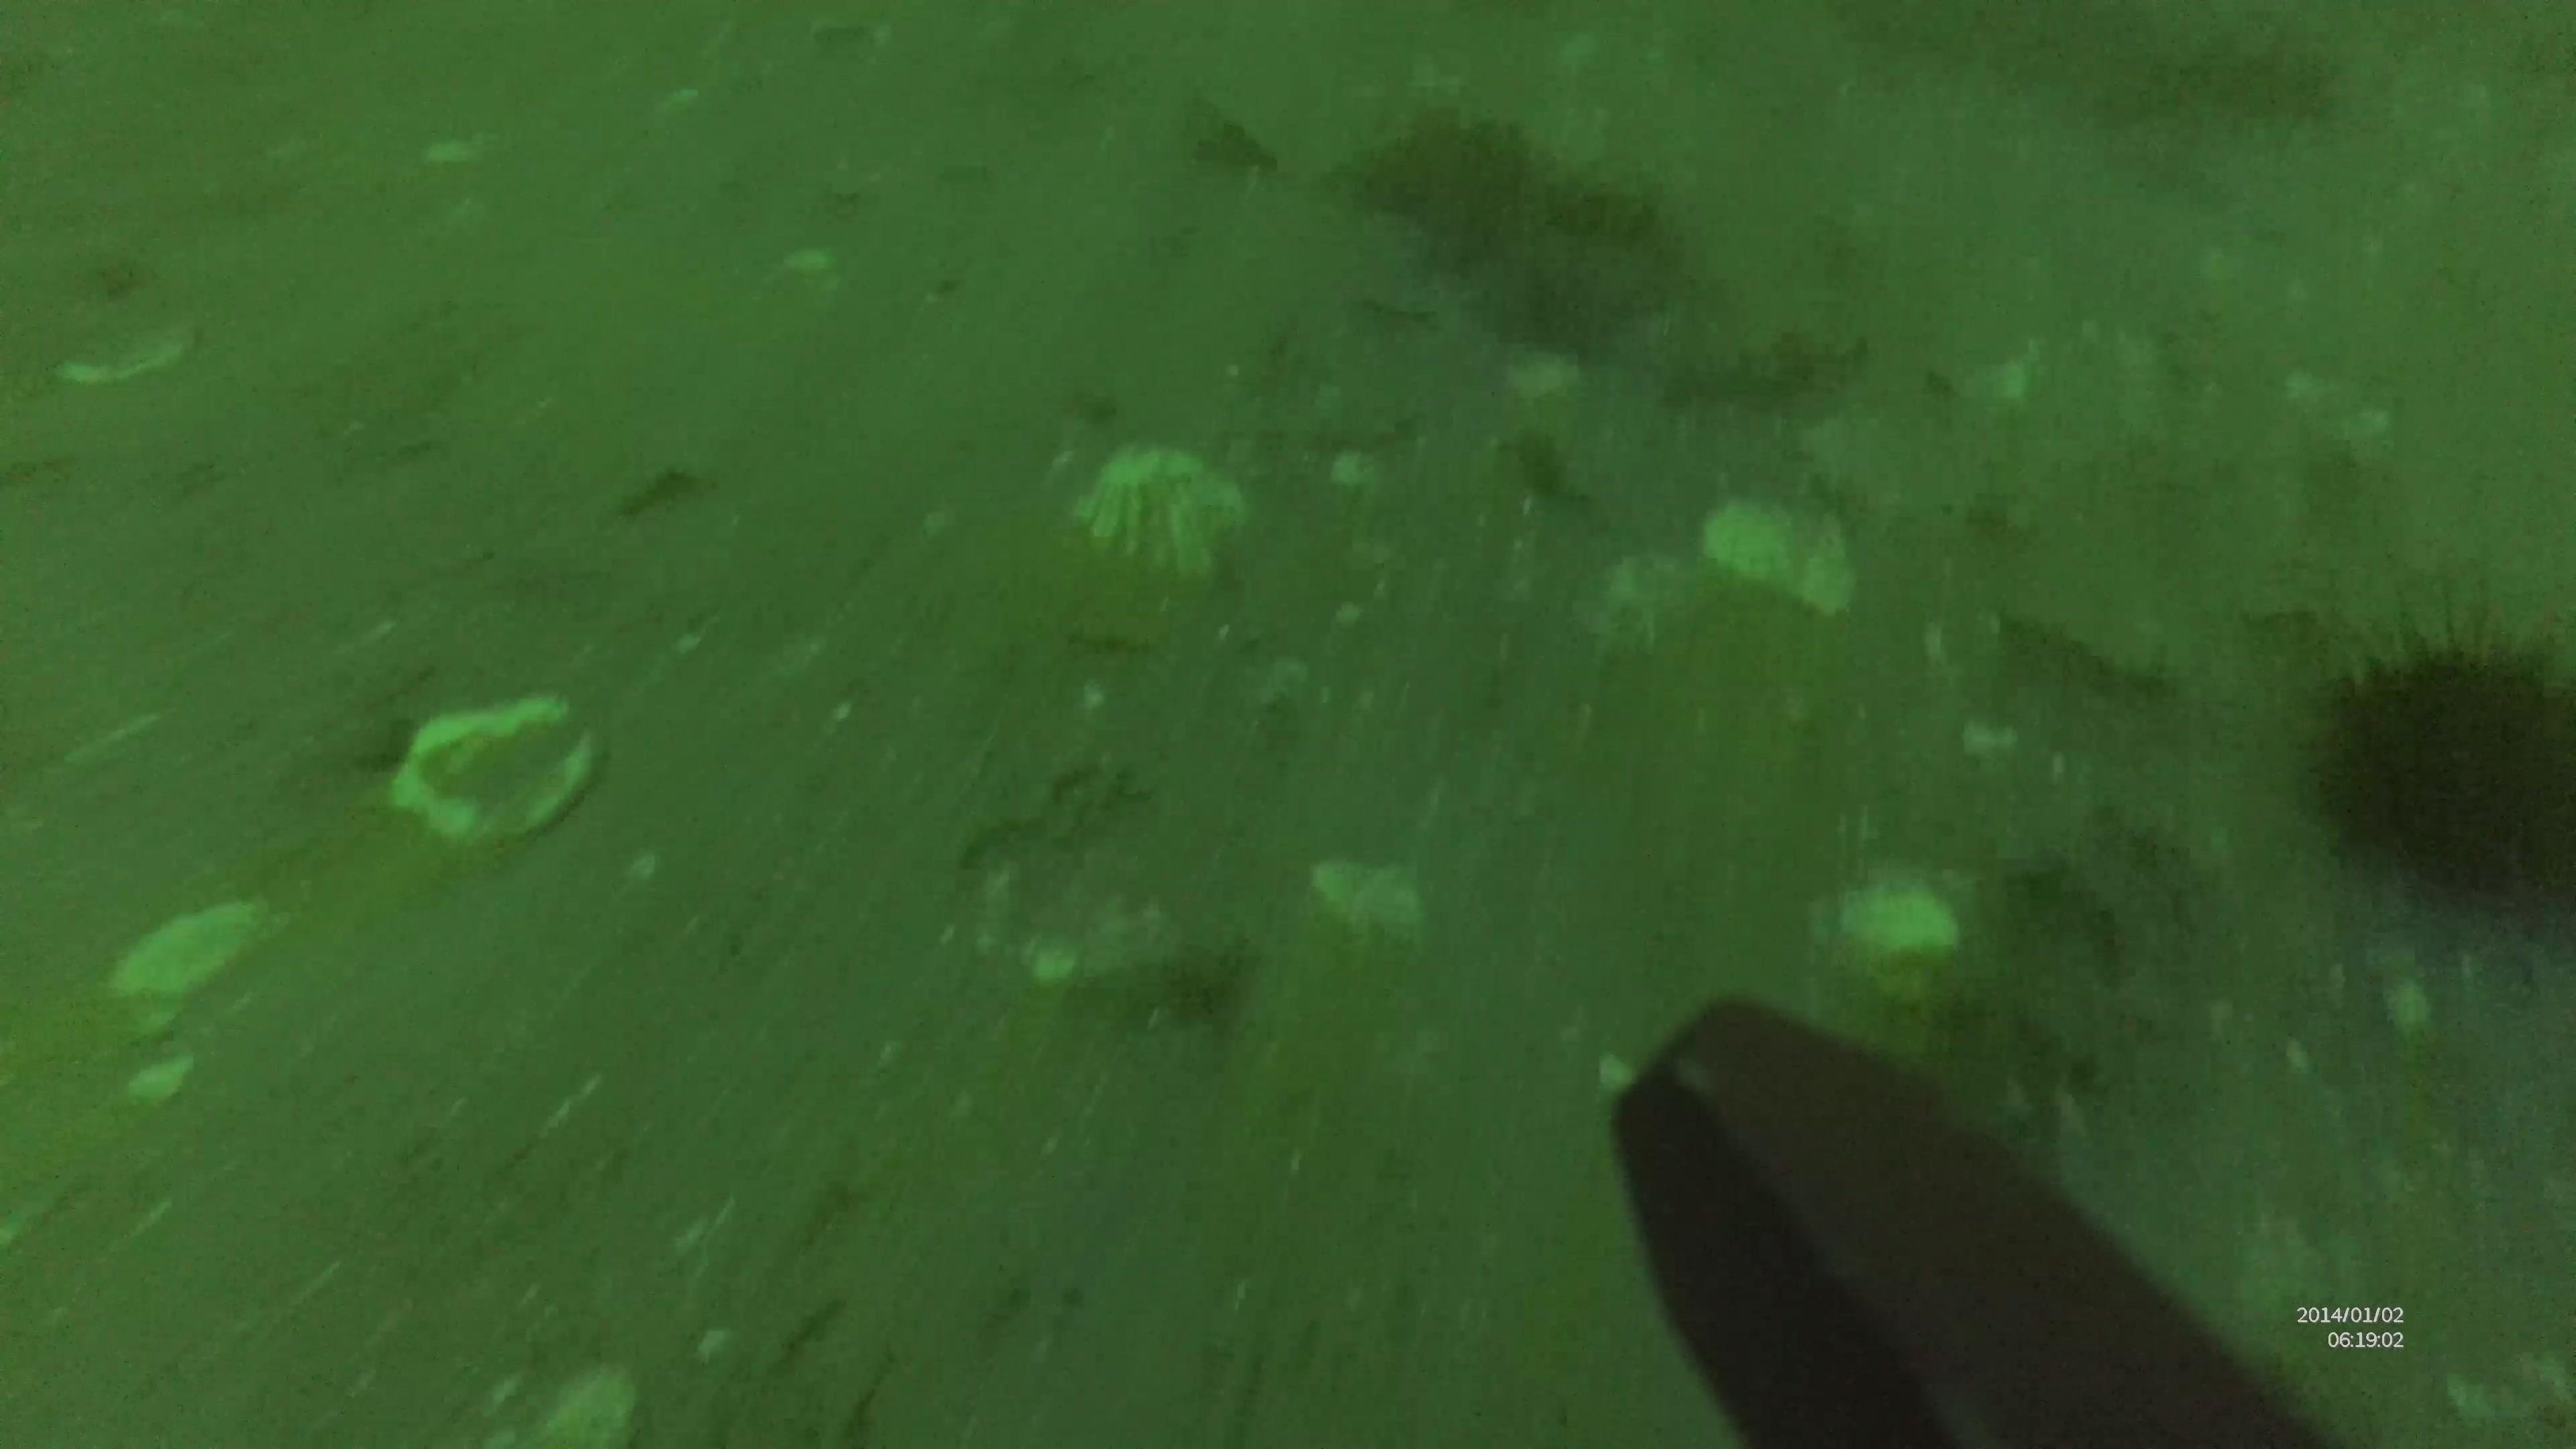echinus: (2298, 602, 2574, 929)
scallop: (1054, 435, 1254, 586)
